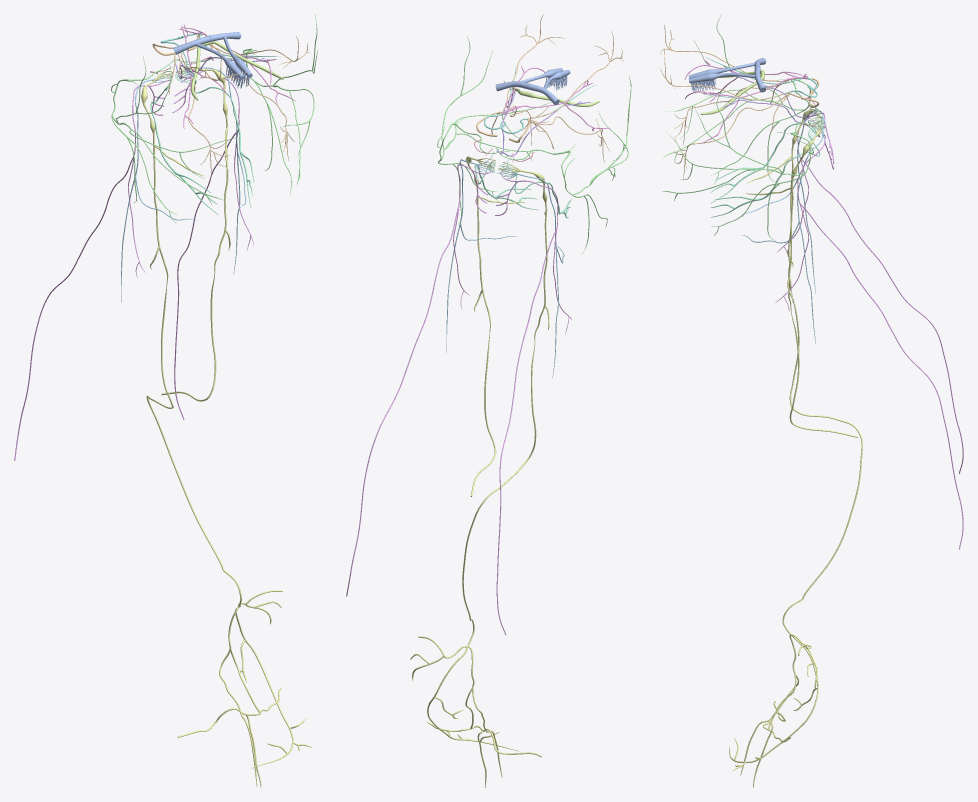
The model's file is cranial-nerves-core-mobile.glb.
The picture shows the model from 3 angles, left to right: view 1: azimuth 30°, elevation 25°; view 2: azimuth 150°, elevation 25°; view 3: azimuth 270°, elevation 25°; orthographic projection. The views are drawn at different scales.
Parts seen in each view (by area): view 1: nerve.cn10.source-group.r, nerve.cn07.source-group.r, nerve.cn10.source-group.l, nerve.cn11.source-group.r, nerve.cn07.source-group.l, nerve.cn11.source-group.l, nerve.cn01.source-group.r, nerve.cn09.source-group.r, nerve.cn01.source-group.l; view 2: nerve.cn10.source-group.r, nerve.cn11.source-group.r, nerve.cn11.source-group.l, nerve.cn07.source-group.l, nerve.cn10.source-group.l, nerve.cn07.source-group.r, nerve.cn09.source-group.l, nerve.cn01.source-group.r; view 3: nerve.cn10.source-group.r, nerve.cn07.source-group.l, nerve.cn07.source-group.r, nerve.cn10.source-group.l, nerve.cn11.source-group.l, nerve.cn11.source-group.r, nerve.cn01.source-group.l.
Part boxes in pixels (x1,y1,x2,y2): nerve.cn10.source-group.r: (141, 70, 312, 787); nerve.cn07.source-group.r: (111, 56, 235, 223); nerve.cn10.source-group.l: (161, 66, 230, 401); nerve.cn11.source-group.r: (14, 80, 169, 460); nerve.cn07.source-group.l: (176, 14, 317, 195); nerve.cn11.source-group.l: (172, 69, 253, 419); nerve.cn01.source-group.r: (173, 35, 244, 88); nerve.cn09.source-group.r: (121, 71, 196, 301); nerve.cn01.source-group.l: (209, 32, 252, 86); nerve.cn10.source-group.r: (410, 162, 549, 787); nerve.cn11.source-group.r: (495, 171, 571, 635); nerve.cn11.source-group.l: (346, 164, 494, 596); nerve.cn07.source-group.l: (437, 36, 551, 224); nerve.cn10.source-group.l: (465, 156, 524, 496); nerve.cn07.source-group.r: (499, 76, 631, 254); nerve.cn09.source-group.l: (446, 154, 517, 352); nerve.cn01.source-group.r: (528, 70, 570, 105); nerve.cn10.source-group.r: (729, 109, 862, 787); nerve.cn07.source-group.l: (662, 91, 819, 240); nerve.cn07.source-group.r: (662, 14, 819, 184); nerve.cn10.source-group.l: (746, 122, 858, 437); nerve.cn11.source-group.l: (775, 130, 963, 549); nerve.cn11.source-group.r: (776, 112, 963, 473); nerve.cn01.source-group.l: (688, 66, 766, 93).
Bounding box in the file's own units: 0.1354 × 0.5281 × 0.2003.
